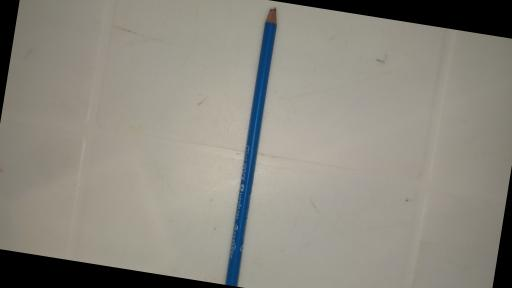Pencil: (224, 6, 280, 287)
